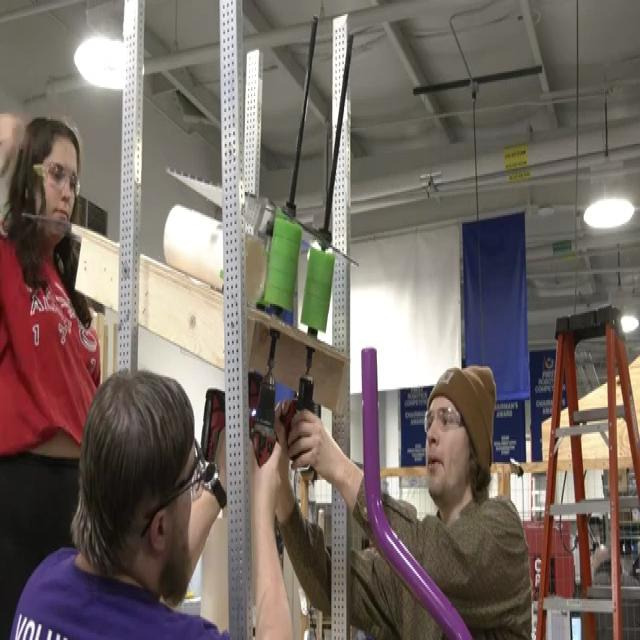Coral: (162, 201, 267, 304)
